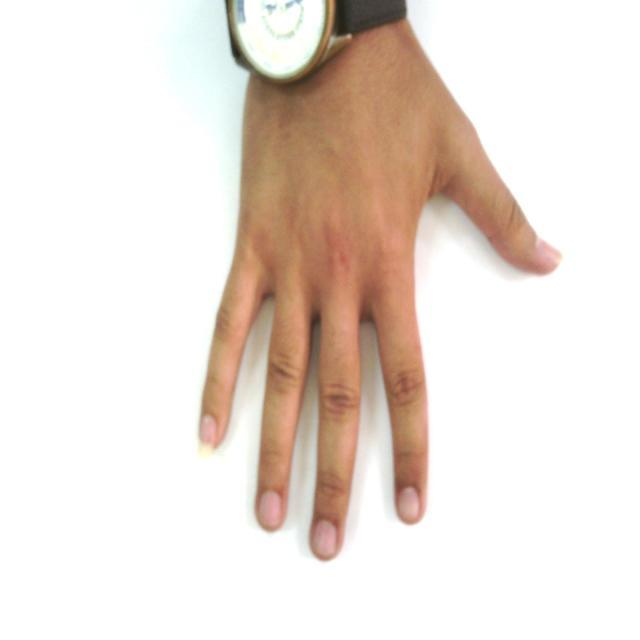Fingernail: (313, 520, 336, 557), (260, 492, 281, 529), (398, 488, 419, 522), (200, 416, 217, 455), (539, 240, 561, 262)
